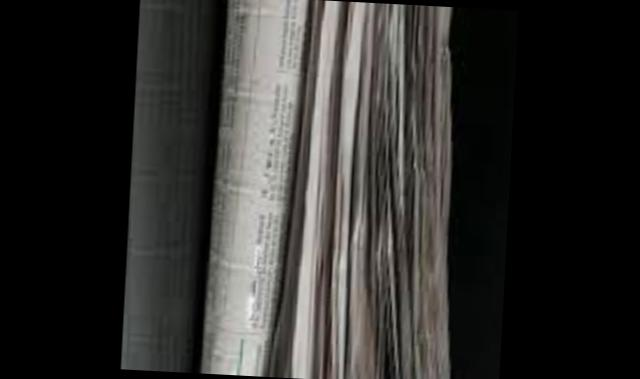cardboard paper: (206, 0, 454, 379), (205, 0, 310, 376)
